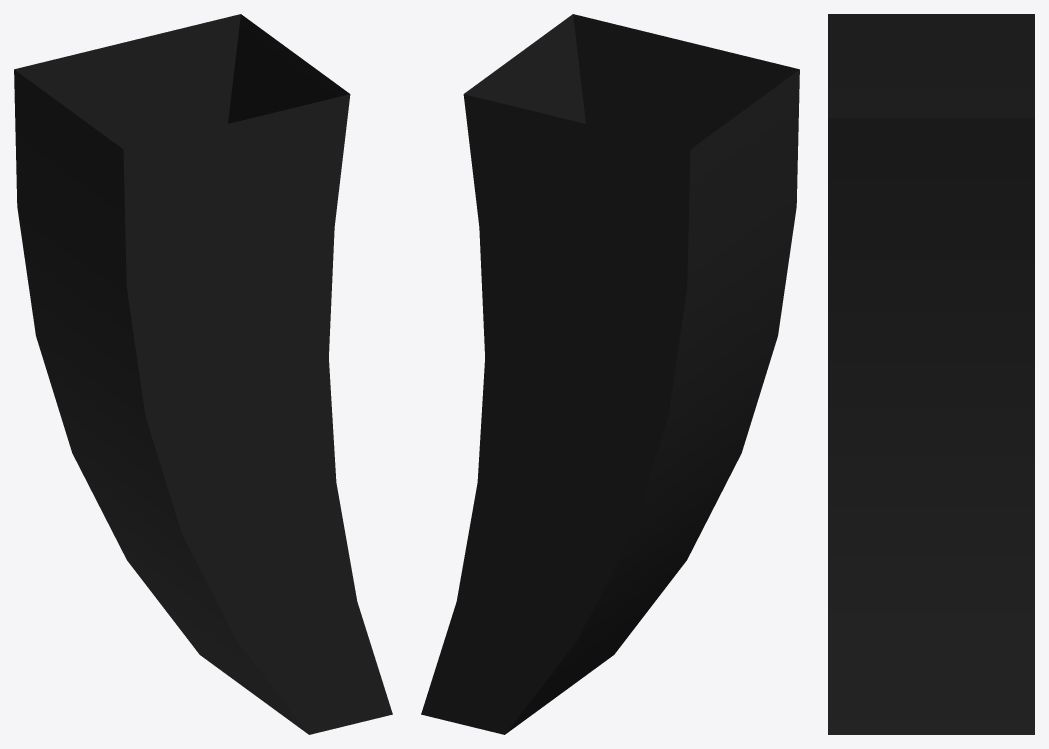
File: Pistol1_Trigger.fbx
The picture shows the model from 3 angles, left to right: view 1: azimuth 30°, elevation 25°; view 2: azimuth 150°, elevation 25°; view 3: azimuth 270°, elevation 25°; orthographic projection. The views are drawn at different scales.
Parts seen in each view (by area): view 1: Pistol1_Trigger; view 2: Pistol1_Trigger; view 3: Pistol1_Trigger.
Part boxes in pixels (x1=…): Pistol1_Trigger: x1=14, y1=14, x2=392, y2=734; Pistol1_Trigger: x1=421, y1=14, x2=799, y2=734; Pistol1_Trigger: x1=828, y1=14, x2=1034, y2=734.
Size of the model in its own units: 1.65 by 1.16 by 3.68.
